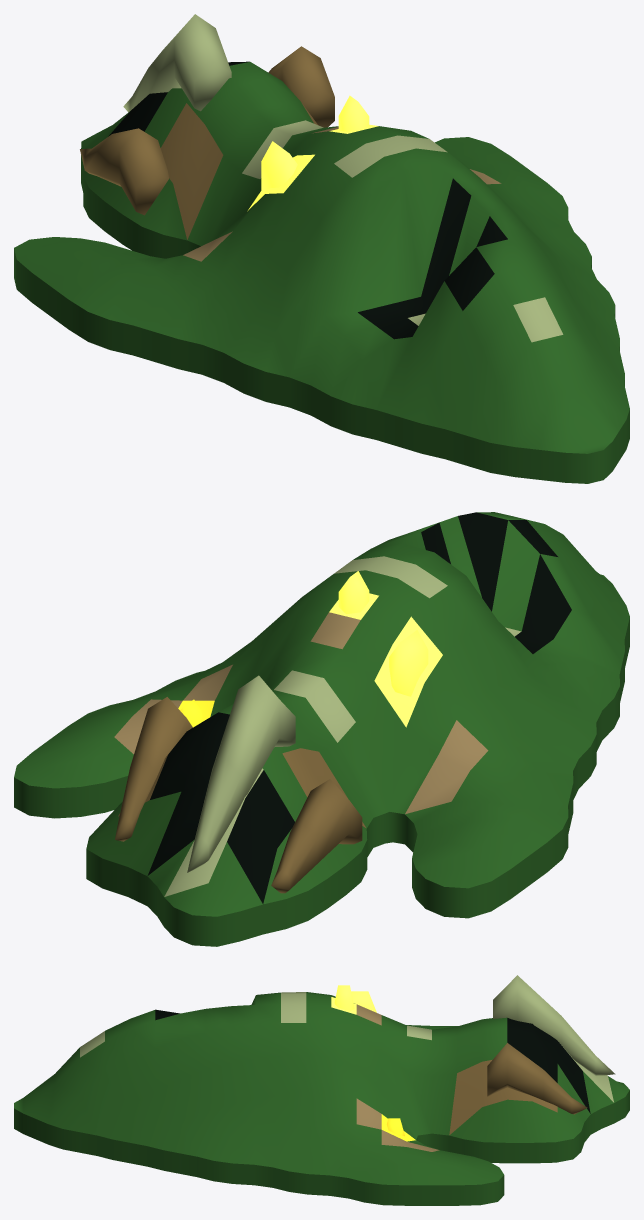
File: newshf-1.glb
3 renders of one model, top to bottom at view 1: azimuth 30°, elevation 25°; view 2: azimuth 150°, elevation 25°; view 3: azimuth 270°, elevation 25°, orthographic. The views are drawn at different scales.
Visible parts, largest first — view 1: newshf-1-f1, newshf-1-body; view 2: newshf-1-f1, newshf-1-body; view 3: newshf-1-f1, newshf-1-body.
Part boxes in pixels (bbox=[...]): newshf-1-f1: bbox=[14, 61, 629, 453]; newshf-1-body: bbox=[14, 14, 629, 483]; newshf-1-f1: bbox=[14, 512, 629, 916]; newshf-1-body: bbox=[14, 617, 629, 946]; newshf-1-f1: bbox=[14, 985, 629, 1185]; newshf-1-body: bbox=[14, 975, 629, 1205].
Bounding box in the file's own units: 1.25 × 0.6426 × 2.04.
